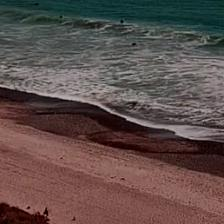surfer: (32, 2, 39, 6), (131, 43, 136, 46), (120, 19, 123, 23), (59, 15, 63, 18)
